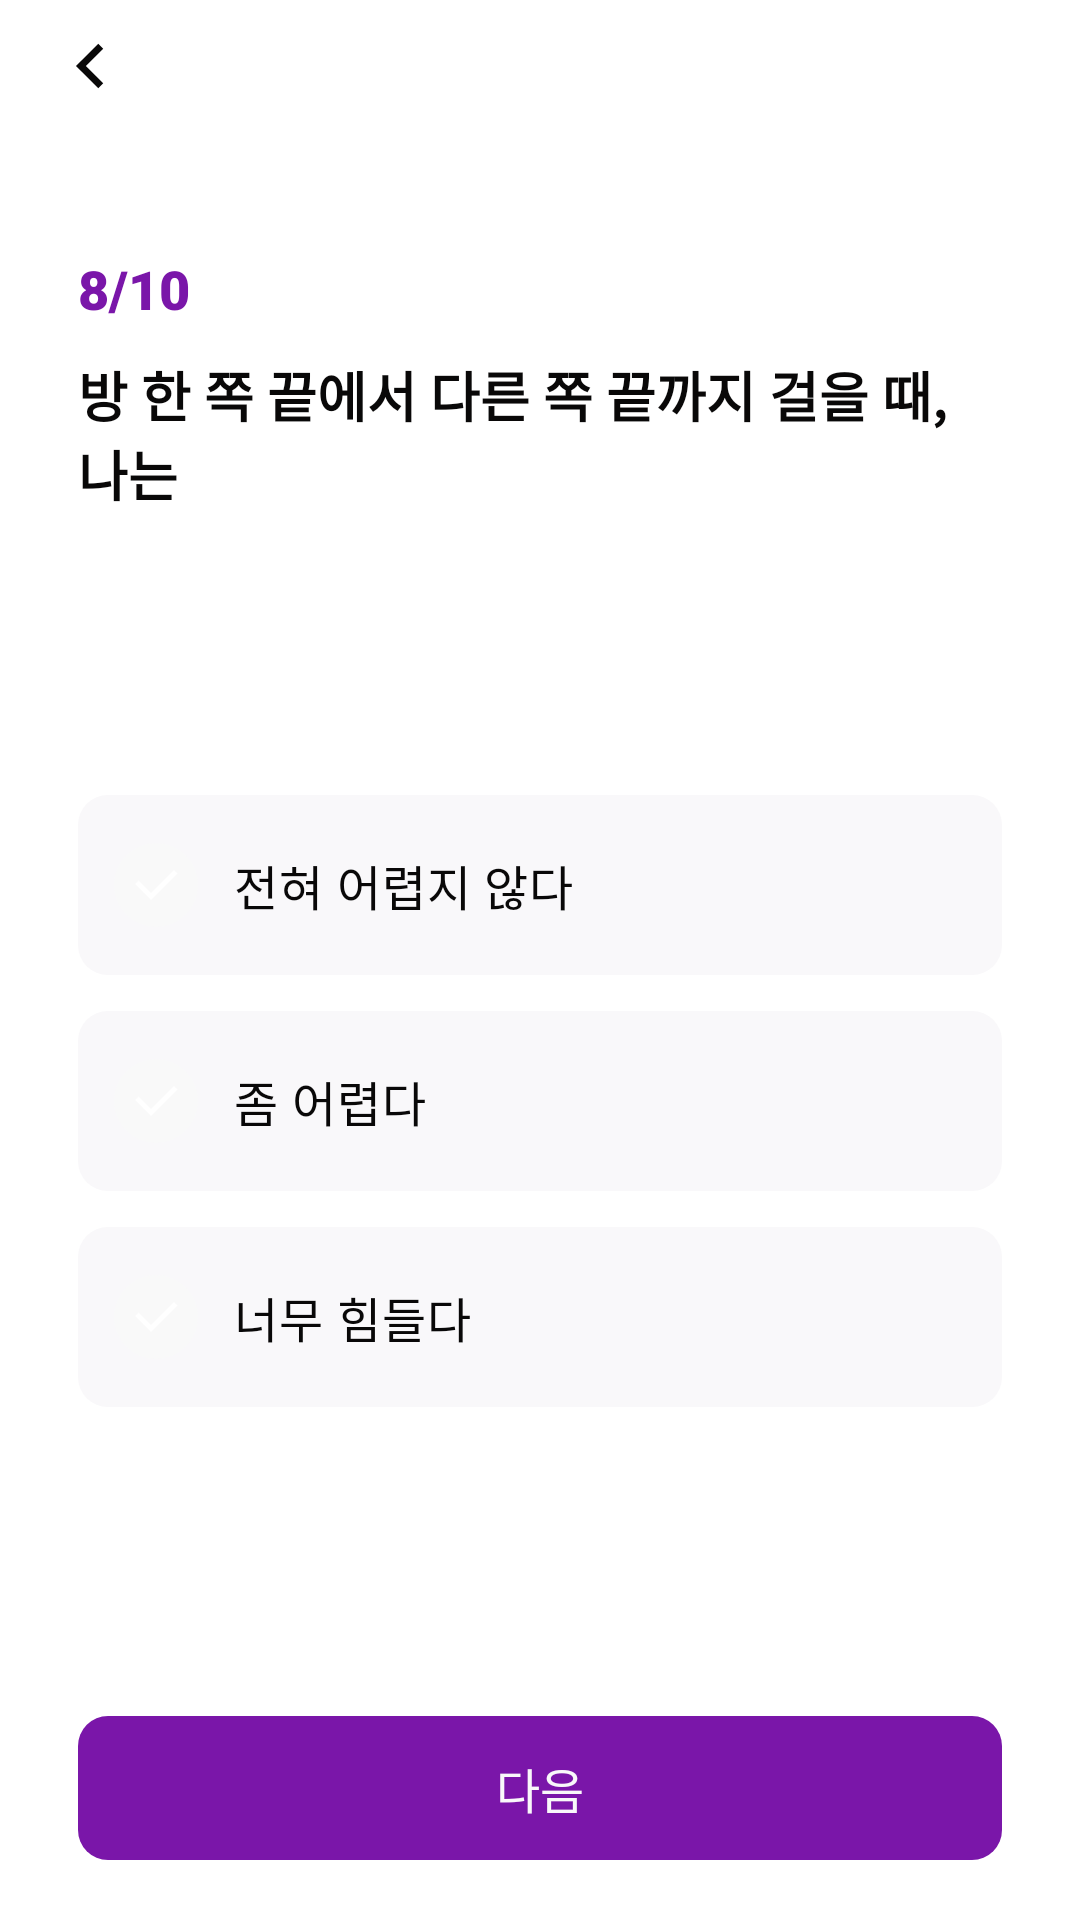

Icon click points for this 1080w x 1920h phone screenshot, format (x=x, y=y):
arrow: (x=89, y=66)
